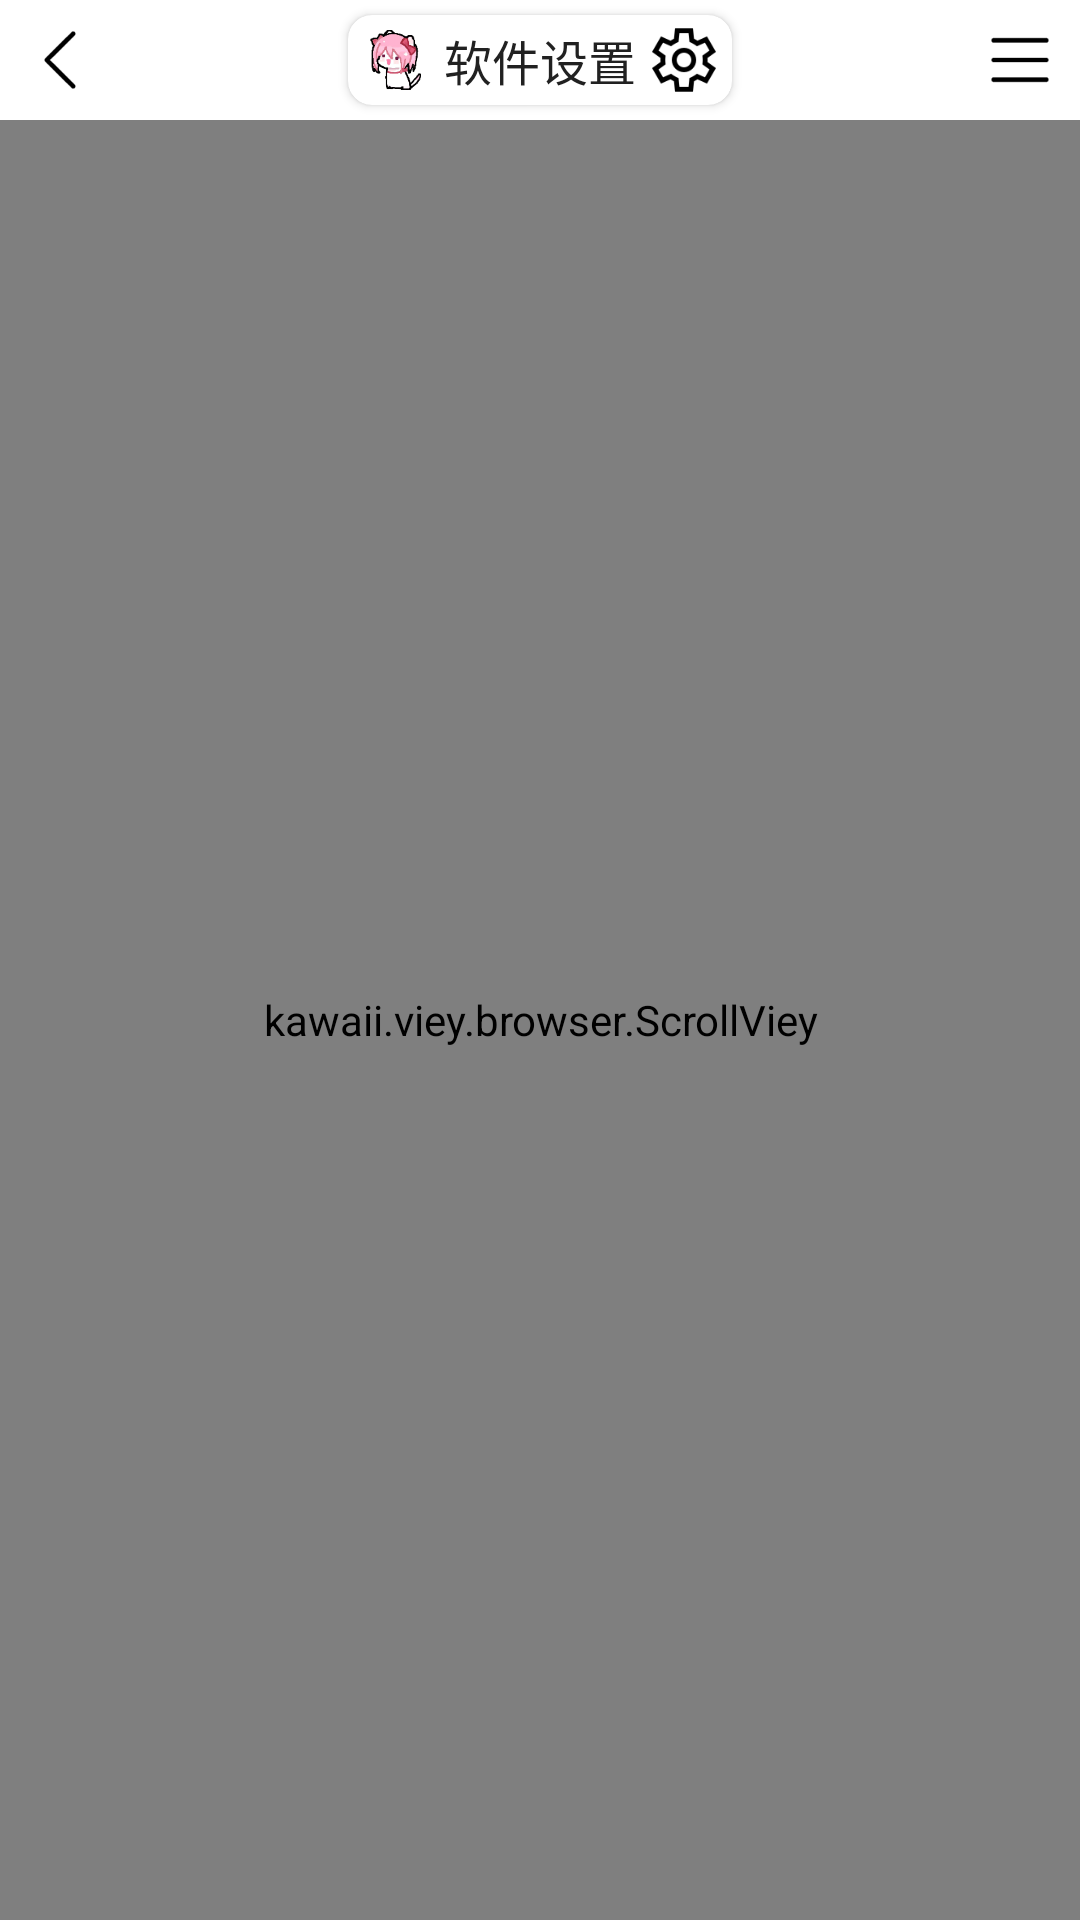

Screen size 1080px×1920px. Icon name, then its box in pixels as (x1, y1, x2, y2):
arrow back: (44, 31, 76, 89)
menu: (991, 37, 1049, 83)
